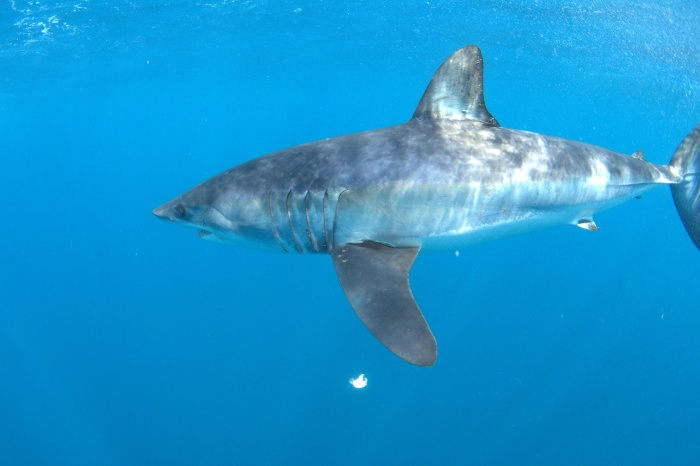Mako: (142, 39, 700, 384)
